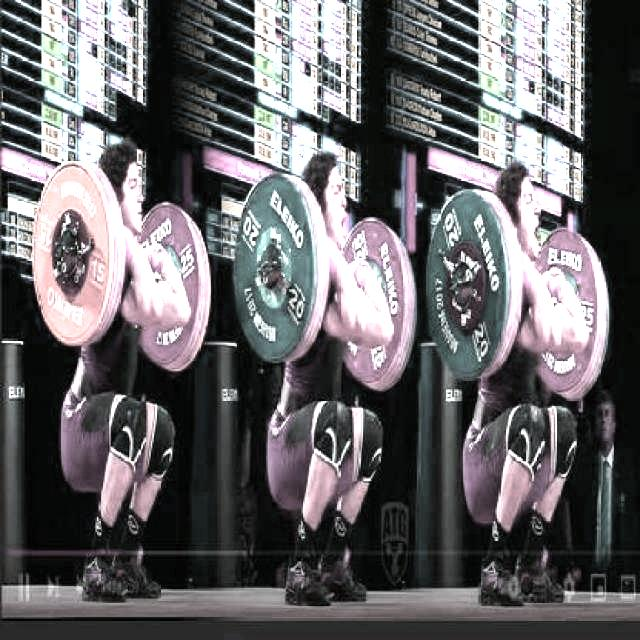barbell: (422, 185, 515, 385), (27, 158, 116, 350), (232, 167, 312, 367)
